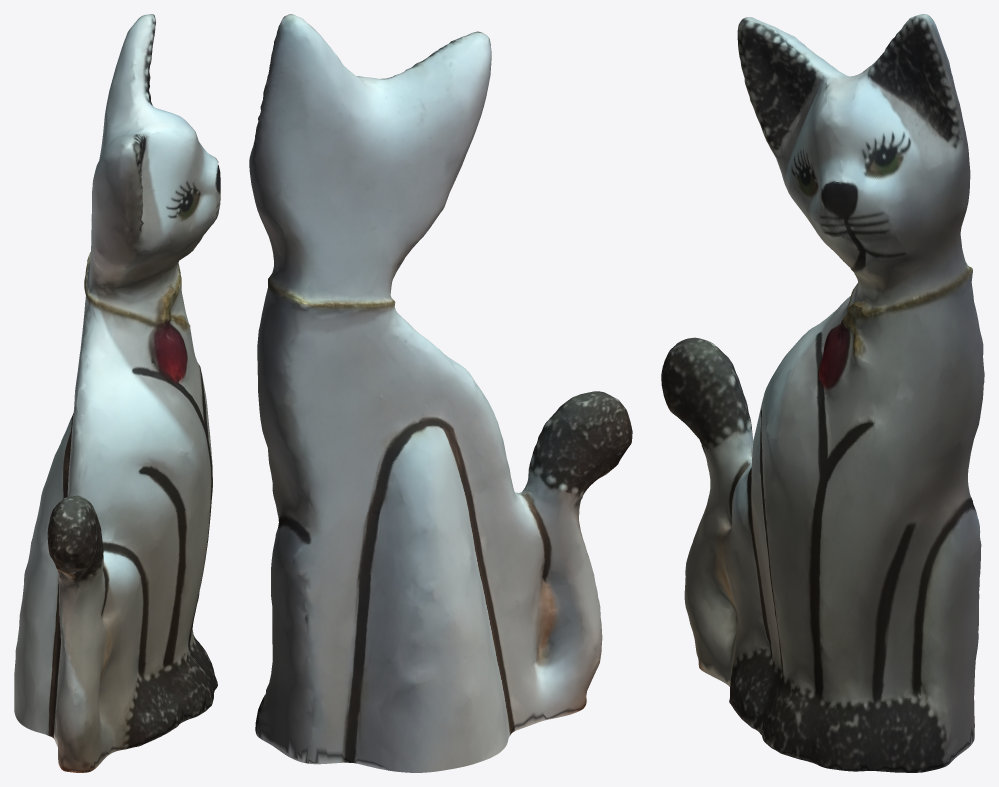
The model's file is cat.glb.
3 renders of one model, left to right at view 1: azimuth 30°, elevation 25°; view 2: azimuth 150°, elevation 25°; view 3: azimuth 270°, elevation 25°, orthographic. The views are drawn at different scales.
Visible parts, largest first — view 1: cat2; view 2: cat2; view 3: cat2.
Boxes of the visible parts, left/top/right/bottom form: cat2: left=14, top=14, right=220, bottom=772; cat2: left=249, top=14, right=632, bottom=772; cat2: left=661, top=14, right=984, bottom=772.
Size of the model in its own units: 0.1196 by 0.3013 by 0.1188.
Materials: 1 (1 with a texture image).
